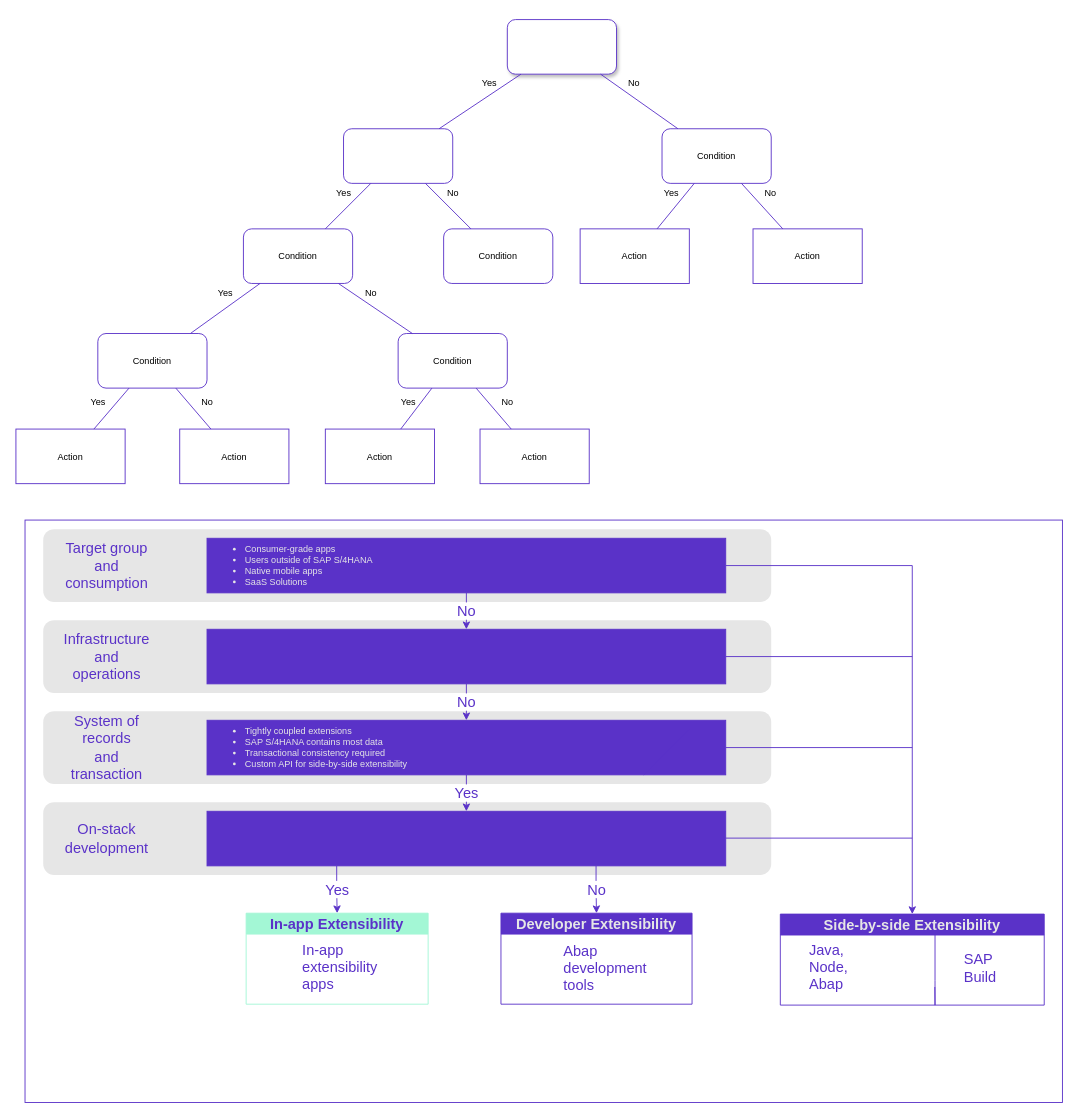
Some shapes in this 1078 by 1118 pixel diagram are drawn without their labels. Here are the shapes that lost their labels. From the top down, the centre of each, then its label:
At (x=398, y=155): "Sora".
At (x=466, y=656): "Independent of SAP S/4HANA infrastructure and operations Scalability Downtimes".
At (x=466, y=838): "Simple extensions like UI adaptations or custom fields S/4 analytical views".
